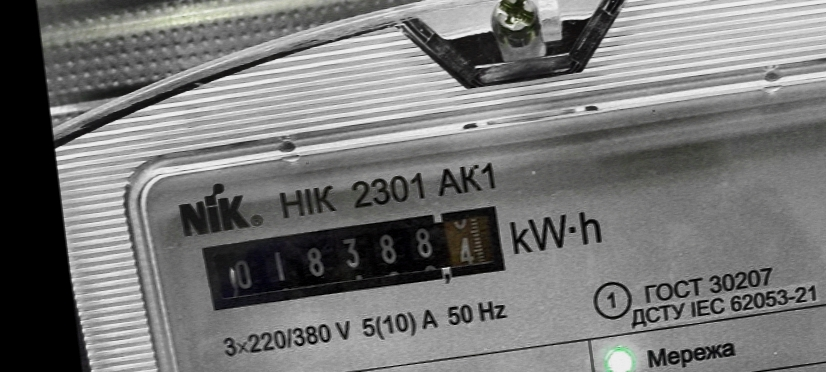0: (231, 253, 255, 291)
1: (268, 244, 290, 283)
3: (340, 232, 364, 270)
4: (454, 230, 478, 266)
8: (411, 221, 436, 260), (303, 240, 328, 278), (376, 229, 400, 266)
screen: (193, 193, 519, 321)
